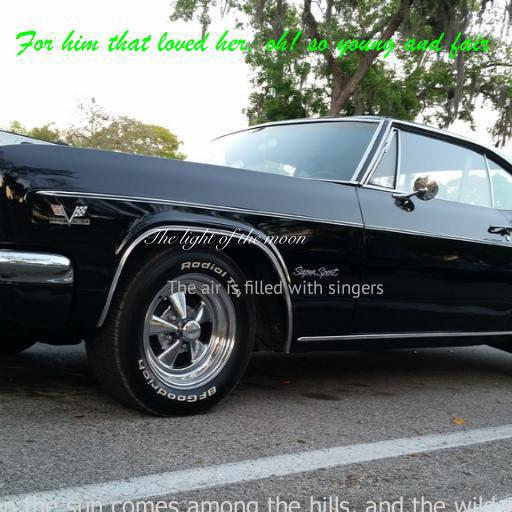Brush Script MT: (15, 30, 489, 59)
PT Sans: (166, 280, 384, 298)
Snell Roundhand: (142, 228, 306, 250)
Tahoma: (0, 496, 512, 512)
